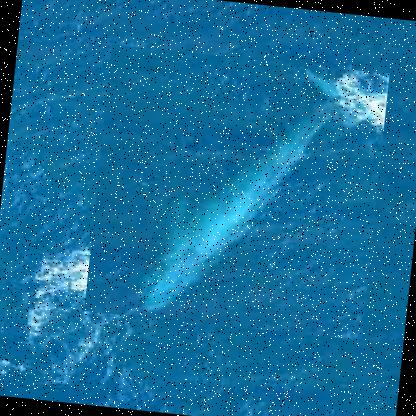blue_whale: (82, 43, 390, 340)
